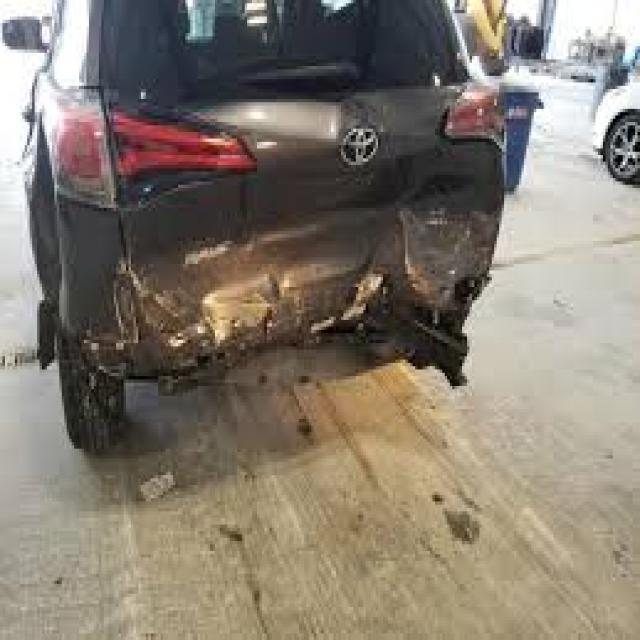damaged-trunk: (96, 0, 466, 310)
